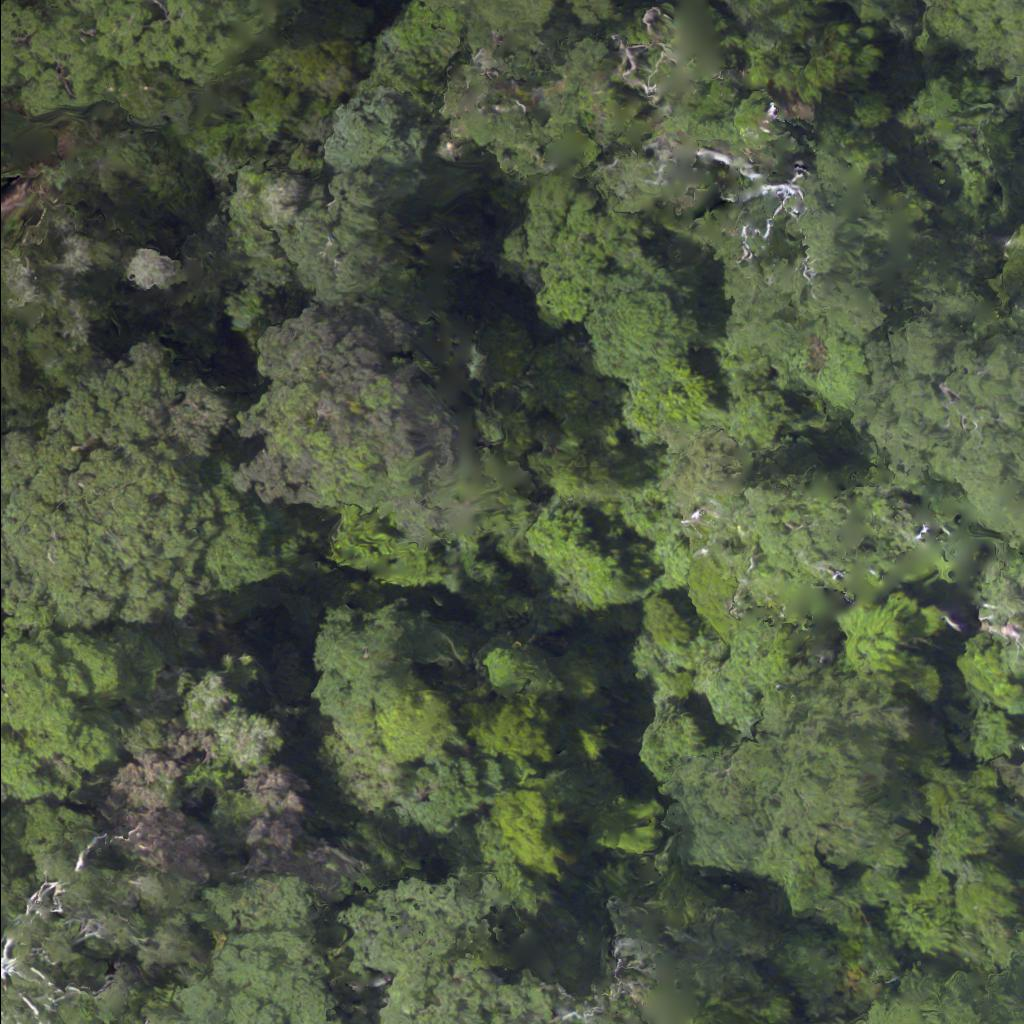crown: (0, 0, 256, 122), (0, 111, 21, 156)
